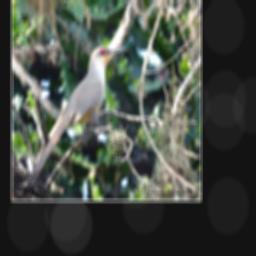Cuckoo: (23, 44, 127, 190)
